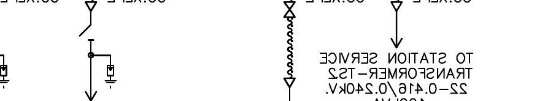terminator_single: (84, 0, 98, 12), (283, 77, 297, 89), (389, 1, 403, 12)
terminator_splicing_kits: (283, 1, 296, 18)
